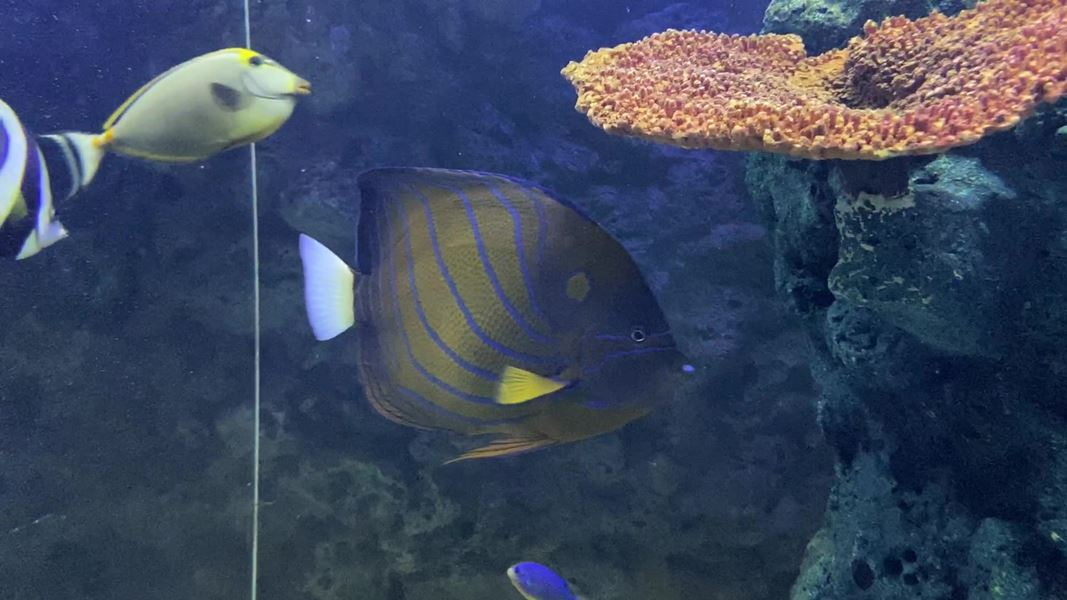Blue ring angelfish: (262, 151, 725, 491)
